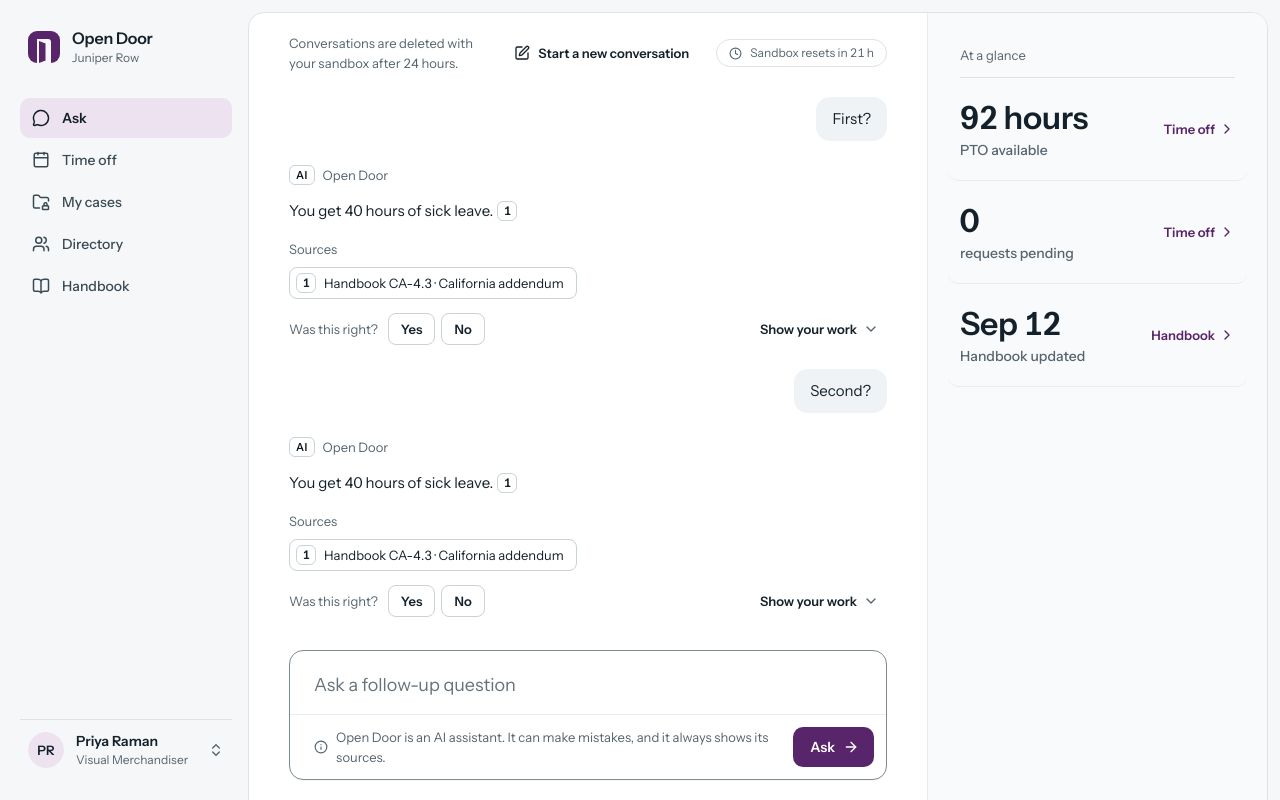
Scenario: a settled conversation › stays still after an answer settles into its saved copy
Type "Third?" into the text box named "Ask Open Door".
click(588, 679); type("Third?")  # box [290, 651, 886, 707]
Then press Enter
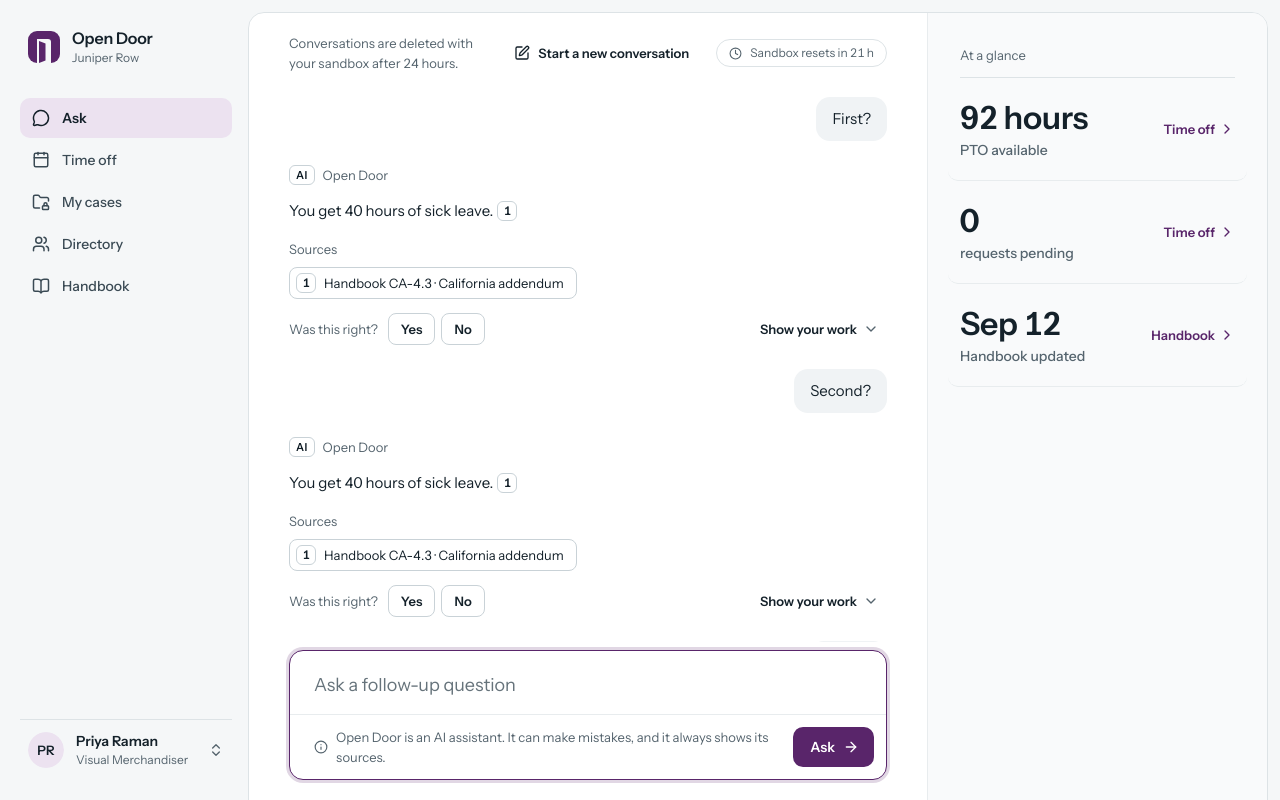
Now the text "Third?" is shown, box [810, 641, 887, 685]
